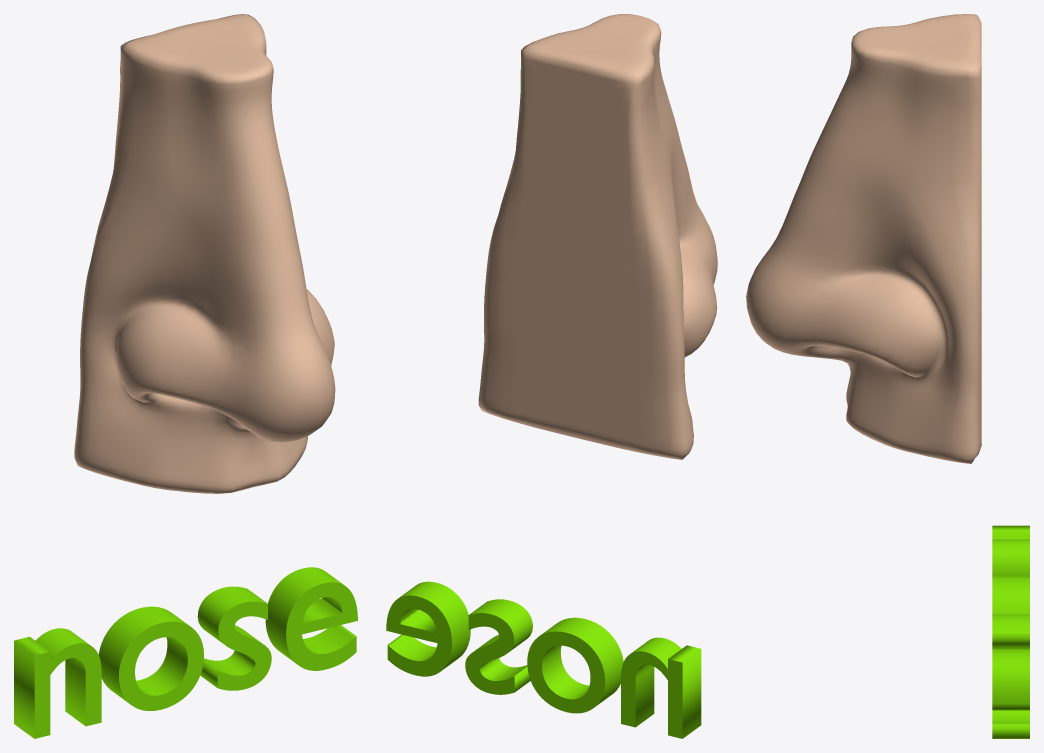
File: nose no.4.gltf
3 renders of one model, left to right at view 1: azimuth 30°, elevation 25°; view 2: azimuth 150°, elevation 25°; view 3: azimuth 270°, elevation 25°, orthographic. The views are drawn at different scales.
Parts seen in each view (by area): view 1: Retopo_Cube, Text; view 2: Retopo_Cube, Text; view 3: Retopo_Cube, Text.
Boxes of the visible parts, x1,y1,x2,y2 form: Retopo_Cube: (74,14,335,493); Text: (14,567,357,738); Retopo_Cube: (478,14,717,459); Text: (386,581,701,738); Retopo_Cube: (746,14,981,463); Text: (992,525,1029,738).
Size of the model in its own units: 1.82 by 3.7 by 1.51.
